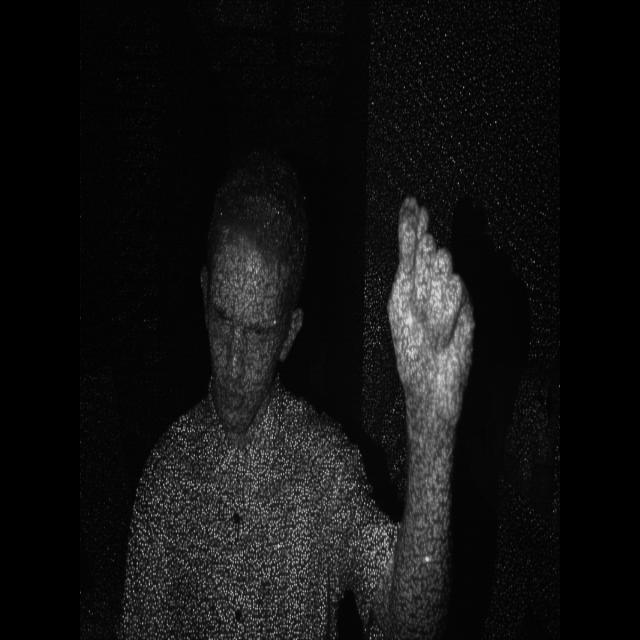T: (380, 179, 484, 428)
